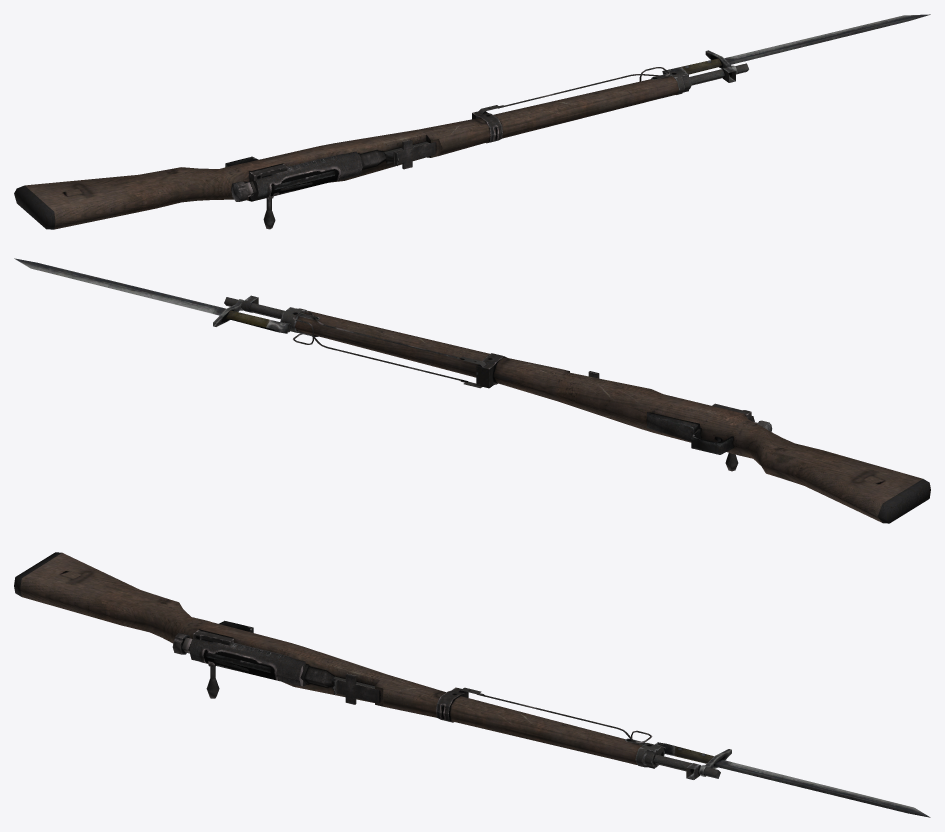
The model's file is weapon_jap_arisaka_type99_bayonet_LOD01.obj.
The picture shows the model from 3 angles, top to bottom: view 1: azimuth 30°, elevation 25°; view 2: azimuth 150°, elevation 25°; view 3: azimuth 330°, elevation 25°; orthographic projection. The views are drawn at different scales.
Parts seen in each view (by area): view 1: TomGroup_1, TomGroup_2, TomGroup_0; view 2: TomGroup_1, TomGroup_2, TomGroup_0; view 3: TomGroup_1, TomGroup_2, TomGroup_0.
Boxes of the visible parts, x1,y1,x2,y2 form: TomGroup_1: [14, 76, 678, 229]; TomGroup_2: [225, 63, 748, 229]; TomGroup_0: [662, 14, 930, 74]; TomGroup_1: [295, 310, 930, 523]; TomGroup_2: [224, 295, 772, 471]; TomGroup_0: [14, 258, 287, 333]; TomGroup_1: [14, 552, 642, 764]; TomGroup_2: [172, 620, 720, 779]; TomGroup_0: [657, 742, 930, 817].
Size of the model in its own units: 171 by 11.16 by 21.22.
Materials: 3 (3 with a texture image).
